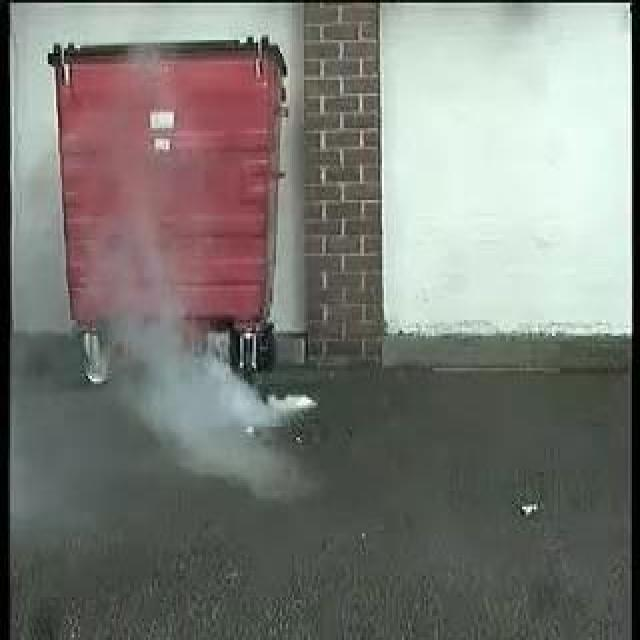Smoke: (110, 286, 312, 431)
